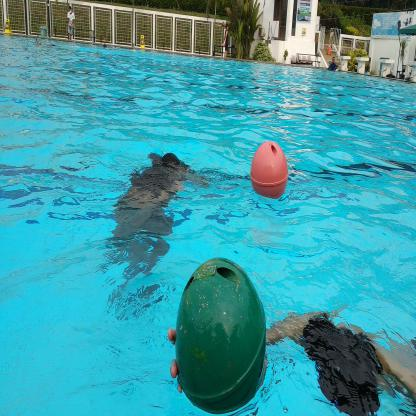green_buoy: (173, 256, 271, 414)
red_buoy: (247, 138, 290, 204)
